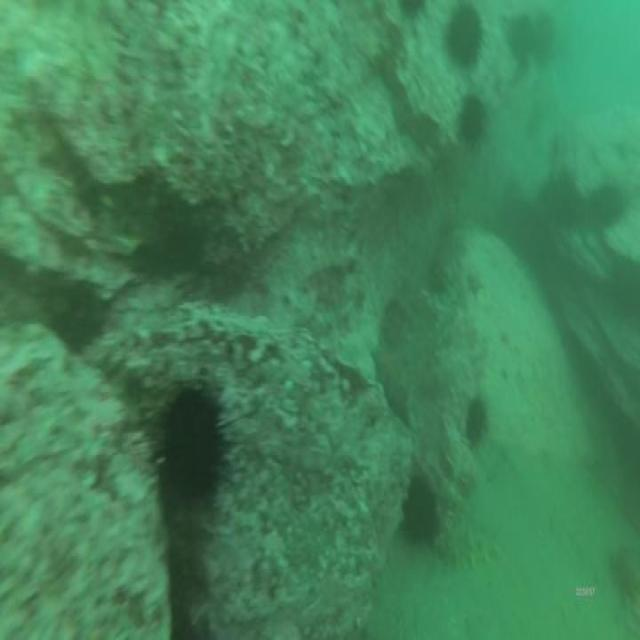echinus: (146, 373, 235, 509), (443, 0, 489, 74), (399, 474, 442, 552), (585, 177, 628, 235), (455, 92, 490, 152), (507, 8, 536, 66), (463, 390, 489, 452), (396, 0, 431, 24)
holothurian: (432, 506, 506, 574)
